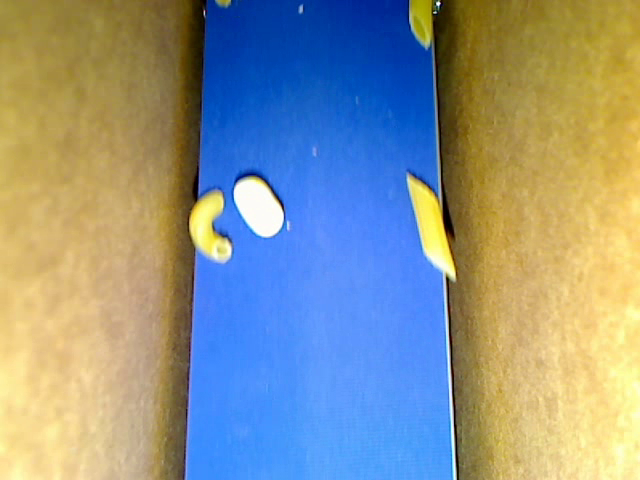elbow: (189, 187, 233, 264)
penne: (406, 172, 457, 281), (408, 1, 432, 52)
